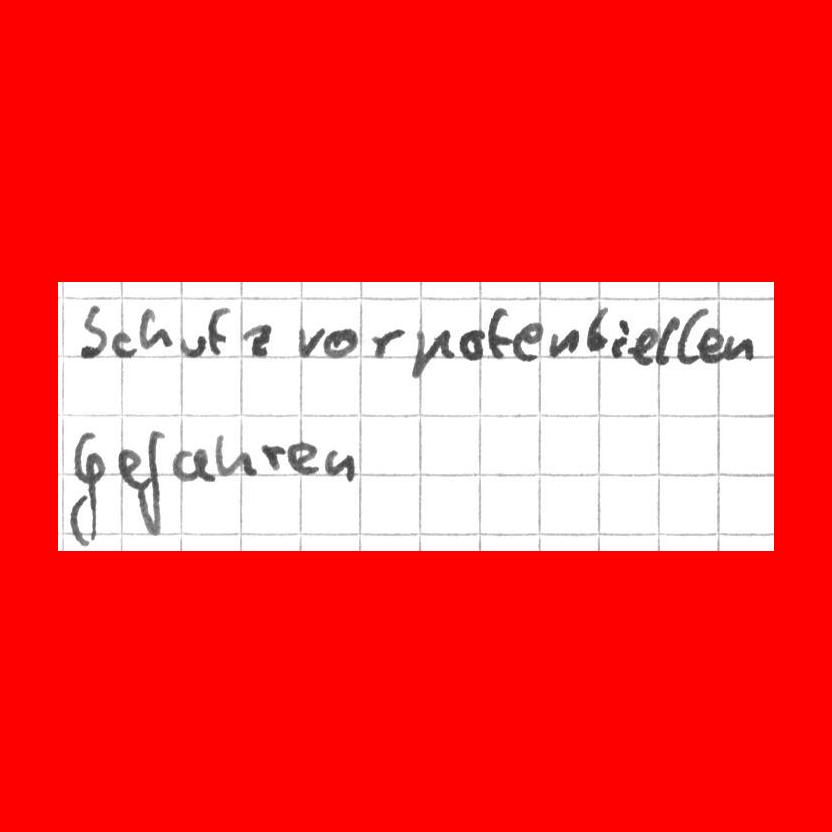Char: (64, 433, 106, 551), (135, 430, 169, 526), (409, 325, 454, 377), (214, 430, 256, 480), (78, 300, 108, 363), (174, 442, 211, 486), (675, 308, 703, 366), (140, 305, 171, 353), (486, 303, 512, 360), (512, 319, 545, 362), (655, 314, 680, 367), (286, 438, 321, 475), (241, 321, 275, 359), (370, 325, 406, 360), (114, 445, 140, 492), (585, 303, 609, 352), (206, 303, 229, 354), (324, 447, 356, 483), (324, 326, 358, 359), (631, 324, 657, 366), (547, 325, 578, 359), (696, 325, 722, 365), (295, 324, 323, 359), (723, 332, 753, 363), (459, 325, 484, 362), (609, 316, 629, 361), (111, 329, 136, 361), (261, 440, 285, 473), (179, 331, 206, 360)
